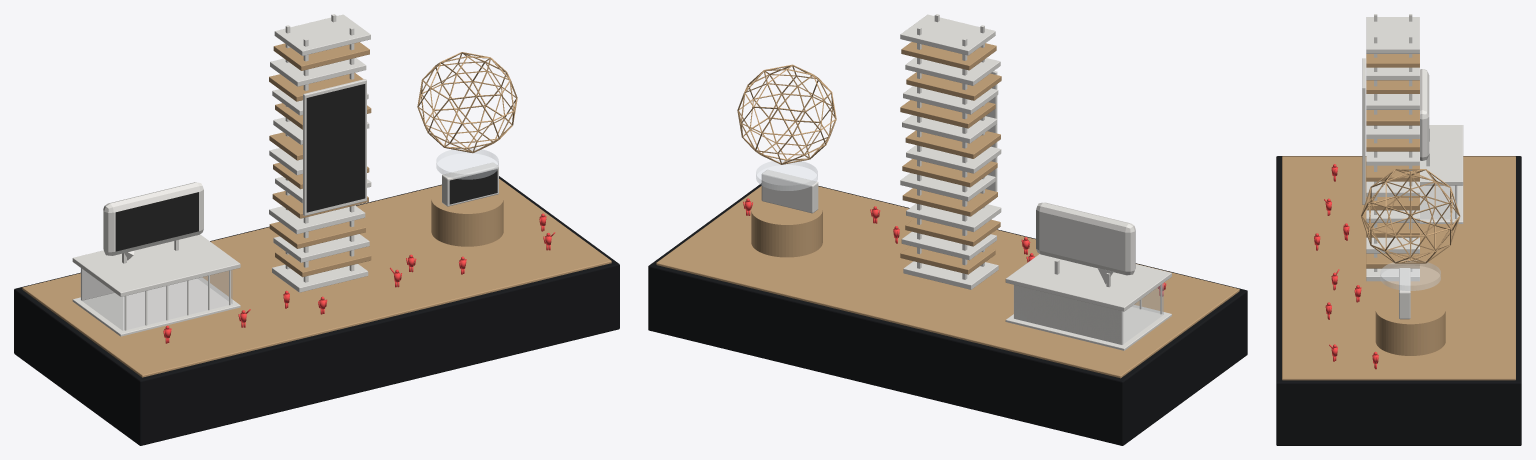
File: maquette.glb
The picture shows the model from 3 angles, left to right: view 1: azimuth 30°, elevation 25°; view 2: azimuth 150°, elevation 25°; view 3: azimuth 270°, elevation 25°; orthographic projection. The views are drawn at different scales.
Visible parts, largest first — view 1: Plinth, Plinth_Top, Screen_Bridj, Store_Roof, Store_Base, Store_Glass, Laser_Sphere, Screen_MojKolega, Laser_Base, Tower_Slab_16, Canopy_Bubble, Laser_Lens (+12 smaller); view 2: Plinth, Plinth_Top, Canopy_Bubble, Store_Roof, Laser_Sphere, Store_Back, Laser_Base, Tower_Slab_16, Store_Base, Laser_ScreenBox, Laser_Lens, Store_Glass (+17 smaller); view 3: Plinth_Top, Plinth, Laser_Sphere, Laser_Base, Store_Roof, Tower_Slab_16, Laser_Lens, Store_Base, Canopy_Bubble, Tower_Slab_11, Tower_Slab_12, Store_Glass (+18 smaller).
Part boxes in pixels (x1=…): Plinth: x1=14, y1=176, x2=619, y2=445; Plinth_Top: x1=22, y1=179, x2=611, y2=377; Screen_Bridj: x1=306, y1=84, x2=365, y2=212; Store_Roof: x1=72, y1=234, x2=240, y2=296; Store_Base: x1=72, y1=277, x2=240, y2=336; Store_Glass: x1=81, y1=269, x2=232, y2=330; Laser_Sphere: x1=417, y1=52, x2=517, y2=153; Screen_MojKolega: x1=115, y1=192, x2=198, y2=251; Laser_Base: x1=431, y1=188, x2=503, y2=246; Tower_Slab_16: x1=274, y1=14, x2=370, y2=55; Canopy_Bubble: x1=103, y1=182, x2=203, y2=255; Laser_Lens: x1=436, y1=148, x2=498, y2=179; Plinth: x1=648, y1=183, x2=1247, y2=445; Plinth_Top: x1=656, y1=186, x2=1239, y2=378; Canopy_Bubble: x1=1036, y1=202, x2=1135, y2=275; Store_Roof: x1=1005, y1=254, x2=1171, y2=311; Laser_Sphere: x1=737, y1=64, x2=836, y2=164; Store_Back: x1=1014, y1=285, x2=1123, y2=344; Laser_Base: x1=751, y1=199, x2=822, y2=257; Tower_Slab_16: x1=900, y1=14, x2=995, y2=55; Store_Base: x1=1005, y1=305, x2=1171, y2=350; Laser_ScreenBox: x1=761, y1=169, x2=818, y2=213; Laser_Lens: x1=756, y1=160, x2=817, y2=190; Store_Glass: x1=1014, y1=283, x2=1163, y2=344; Plinth_Top: x1=1282, y1=156, x2=1515, y2=380; Plinth: x1=1276, y1=156, x2=1521, y2=445; Laser_Sphere: x1=1361, y1=169, x2=1460, y2=263; Laser_Base: x1=1375, y1=294, x2=1445, y2=355; Store_Roof: x1=1420, y1=125, x2=1463, y2=185; Tower_Slab_16: x1=1366, y1=17, x2=1419, y2=53; Laser_Lens: x1=1380, y1=260, x2=1440, y2=290; Store_Base: x1=1420, y1=185, x2=1463, y2=223; Canopy_Bubble: x1=1420, y1=69, x2=1429, y2=160; Tower_Slab_11: x1=1366, y1=110, x2=1419, y2=125; Tower_Slab_12: x1=1366, y1=94, x2=1419, y2=109; Store_Glass: x1=1420, y1=186, x2=1455, y2=218.
Size of the model in its own units: 4.6 by 2.9 by 2.1.
